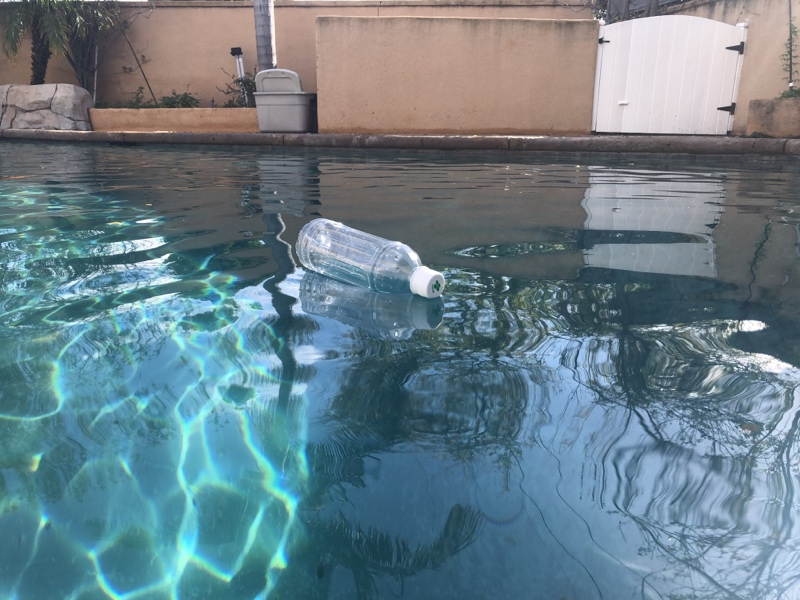Plastic Bottle: (294, 217, 447, 303)
